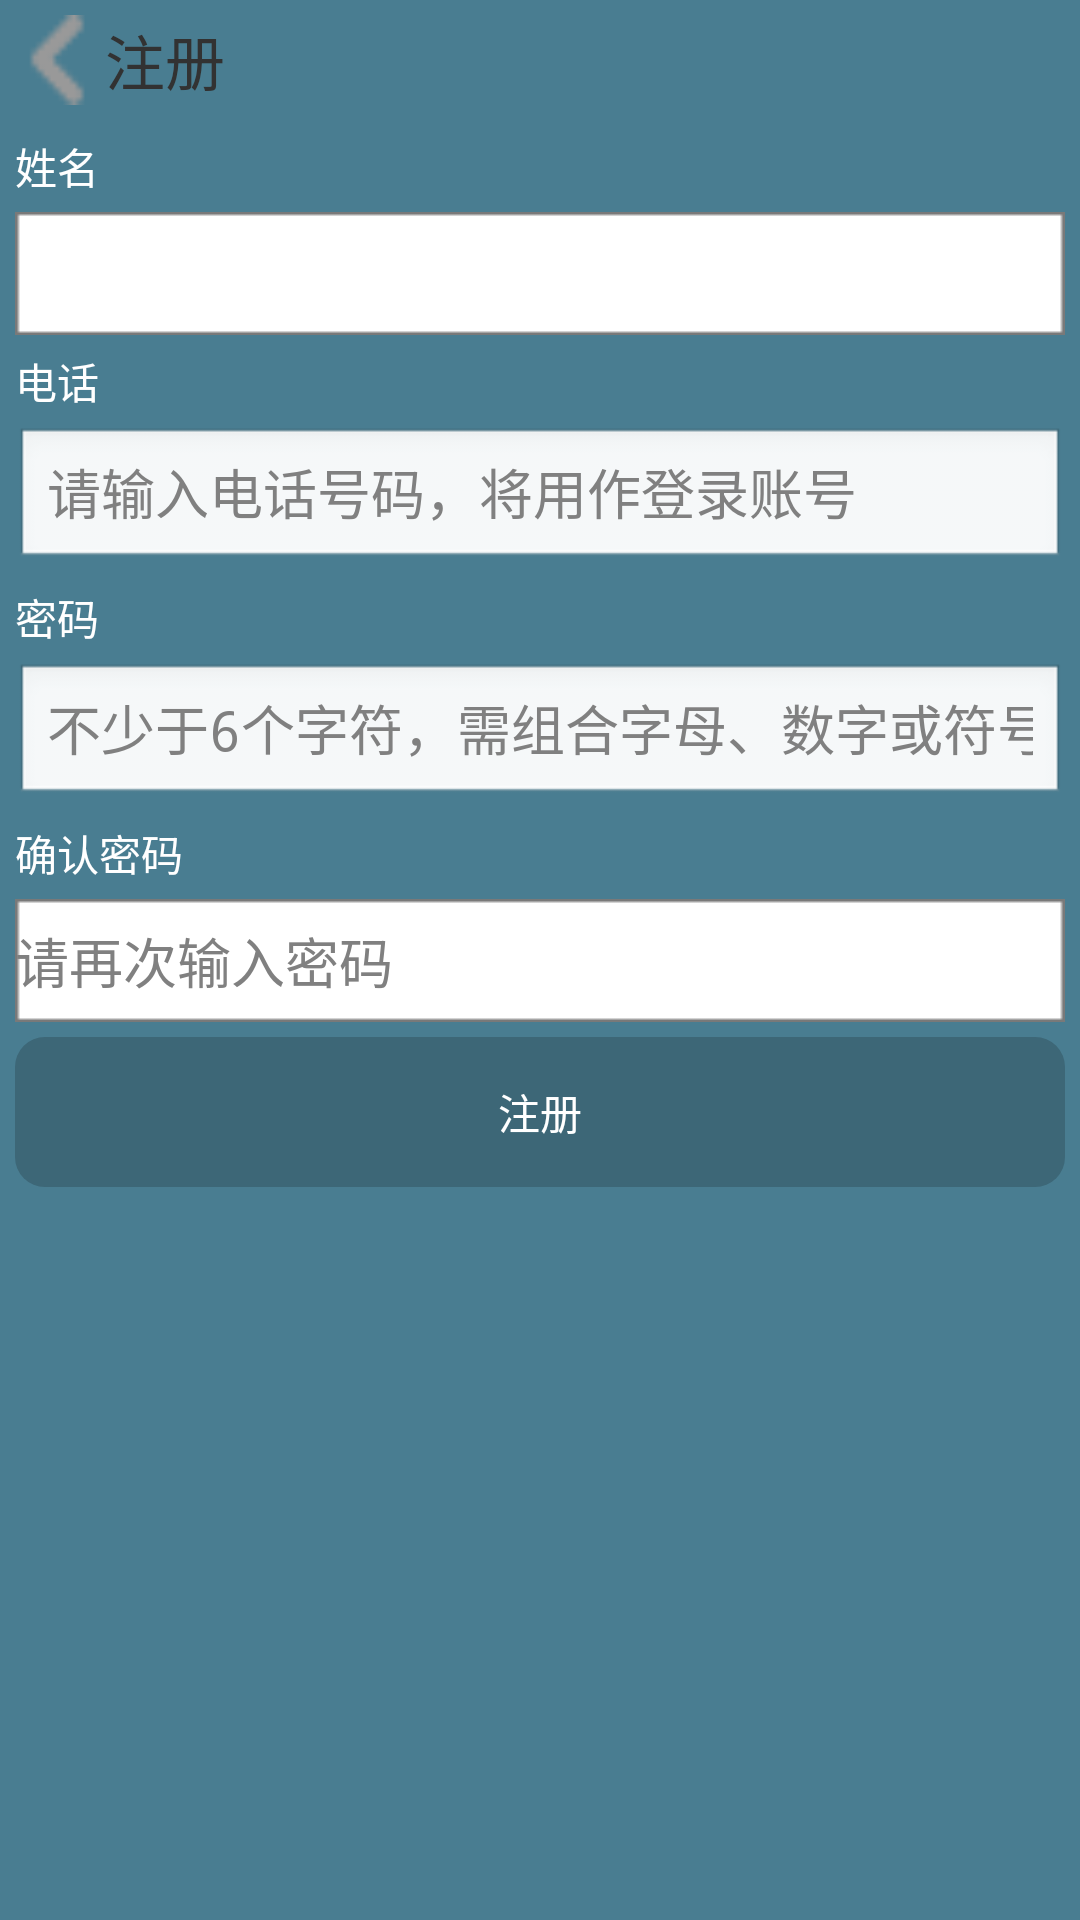

Locate icon controls on the screen. Image size 1080px x 1920px, boxes as Rect(x1, y1, x2, y2).
left: Rect(31, 15, 83, 105)
